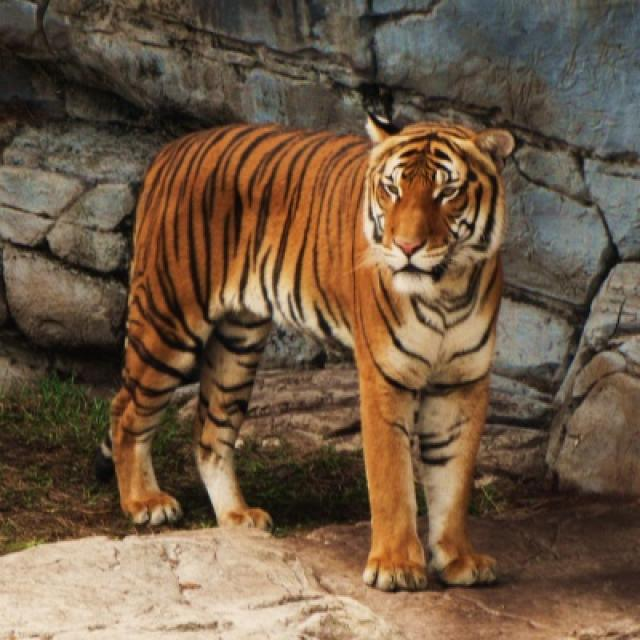Tiger: (110, 114, 519, 591)
